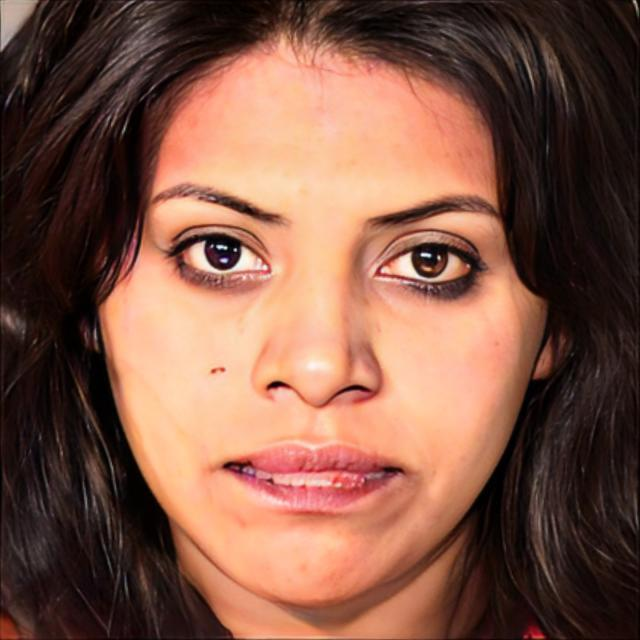disgust: (99, 29, 546, 610)
